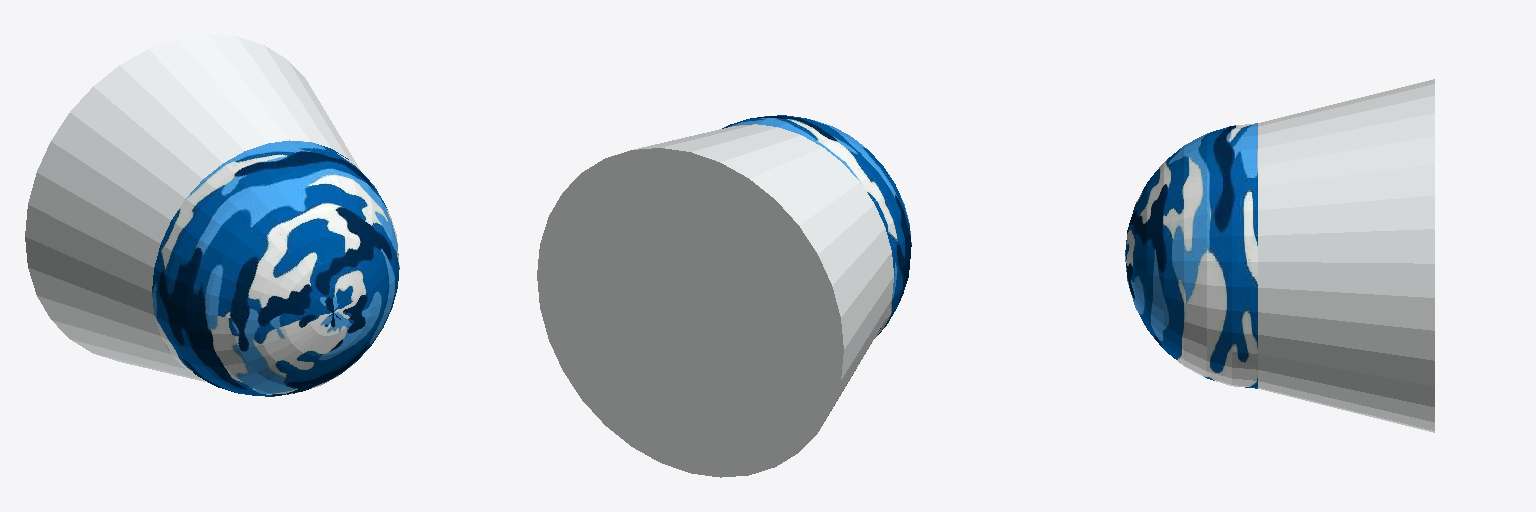
3 views of the same model, side by side, from view 1: azimuth 30°, elevation 25°; view 2: azimuth 150°, elevation 25°; view 3: azimuth 270°, elevation 25° (orthographic).
Visible parts, largest first — view 1: Turret_Base_Circle; view 2: Turret_Base_Circle; view 3: Turret_Base_Circle.
Boxes of the visible parts, x1=… form: Turret_Base_Circle: x1=25, y1=34, x2=399, y2=396; Turret_Base_Circle: x1=537, y1=115, x2=911, y2=477; Turret_Base_Circle: x1=1125, y1=79, x2=1434, y2=432.
Bounding box in the file's own units: 1 × 1 × 0.875.
Materials: 1 (1 with a texture image).